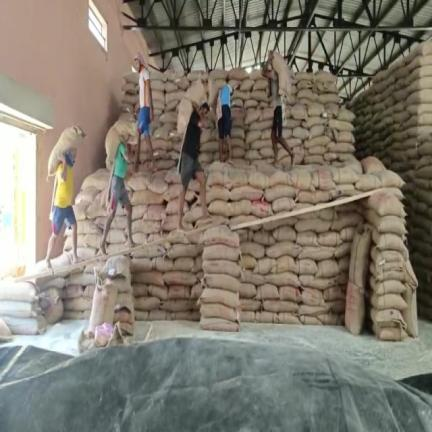Zone-Counting: (45, 126, 85, 269), (178, 80, 209, 230), (101, 120, 134, 253)
